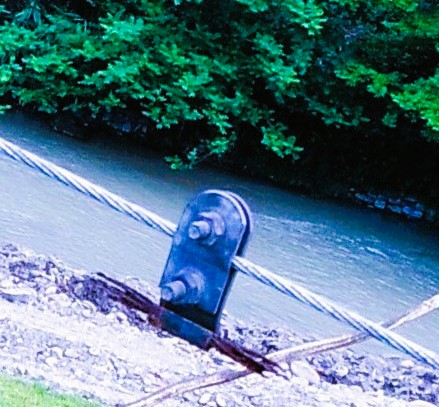Damage of shockproof hammer: (77, 182, 290, 382)
